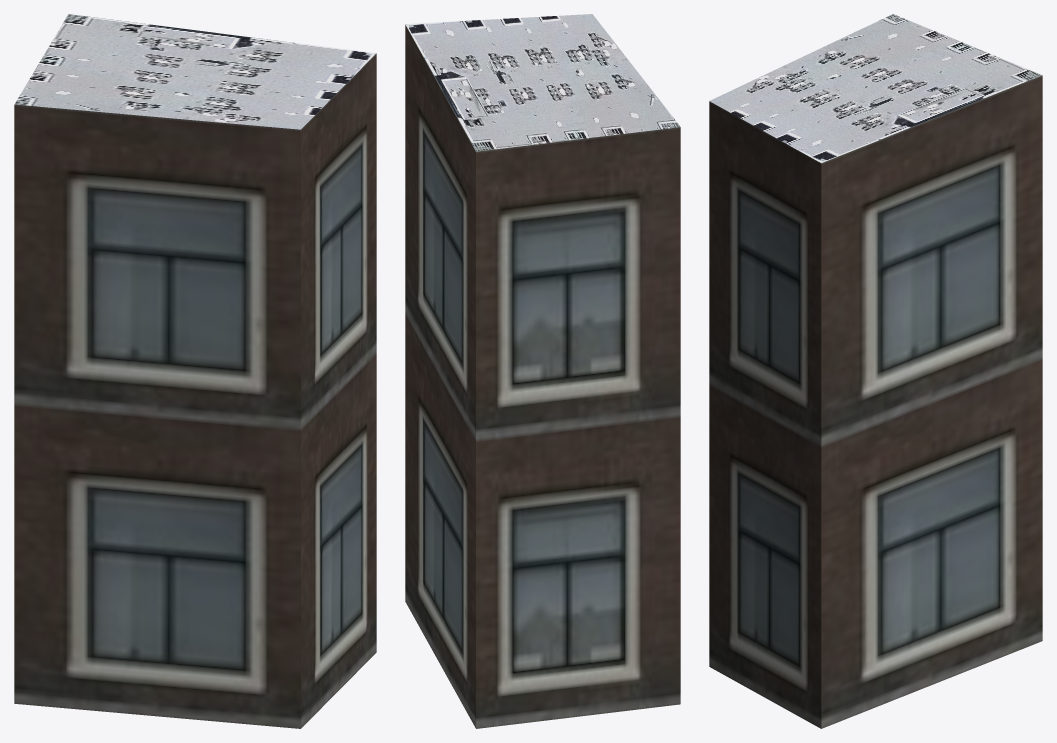
File: ResTex__165.fbx
3 views of the same model, side by side, from view 1: azimuth 30°, elevation 25°; view 2: azimuth 150°, elevation 25°; view 3: azimuth 270°, elevation 25° (orthographic). The views are drawn at different scales.
Visible parts, largest first — view 1: CityEngineMaterial_16_m, CityEngineMaterial_15_m; view 2: CityEngineMaterial_16_m, CityEngineMaterial_15_m; view 3: CityEngineMaterial_16_m, CityEngineMaterial_15_m.
Boxes of the visible parts, left/top/right/bottom form: CityEngineMaterial_16_m: left=14, top=53, right=376, bottom=728; CityEngineMaterial_15_m: left=14, top=14, right=375, bottom=129; CityEngineMaterial_16_m: left=405, top=25, right=680, bottom=728; CityEngineMaterial_15_m: left=405, top=14, right=680, bottom=151; CityEngineMaterial_16_m: left=709, top=75, right=1042, bottom=728; CityEngineMaterial_15_m: left=709, top=14, right=1042, bottom=163.
Size of the model in its own units: 3.4 by 6 by 3.21.
2 materials, 2 textured.
